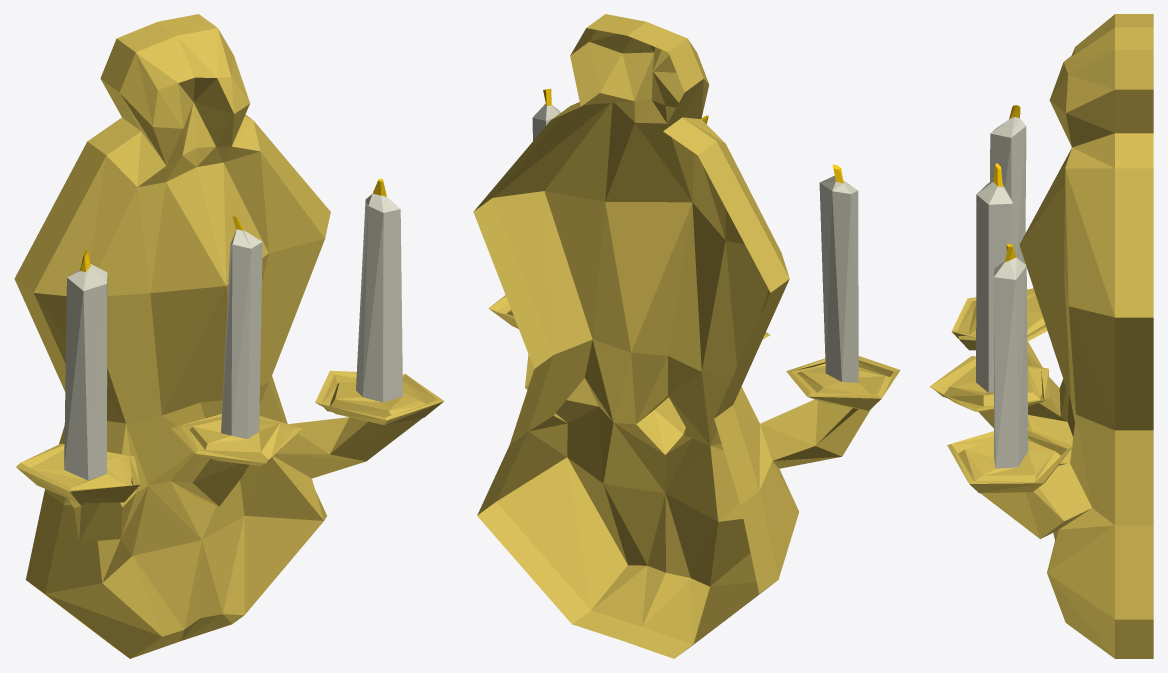
Rendered from RG-Dungeon_Candelabrum.fbx.
3 renders of one model, left to right at view 1: azimuth 30°, elevation 25°; view 2: azimuth 150°, elevation 25°; view 3: azimuth 270°, elevation 25°, orthographic.
Visible parts, largest first — view 1: RG-Dungeon_Candelabrum; view 2: RG-Dungeon_Candelabrum; view 3: RG-Dungeon_Candelabrum.
Part boxes in pixels (<box>): RG-Dungeon_Candelabrum: <box>14,14,444,658</box>; RG-Dungeon_Candelabrum: <box>473,14,900,658</box>; RG-Dungeon_Candelabrum: <box>929,14,1153,658</box>.
Bounding box in the file's own units: 4.06 × 6.03 × 2.
